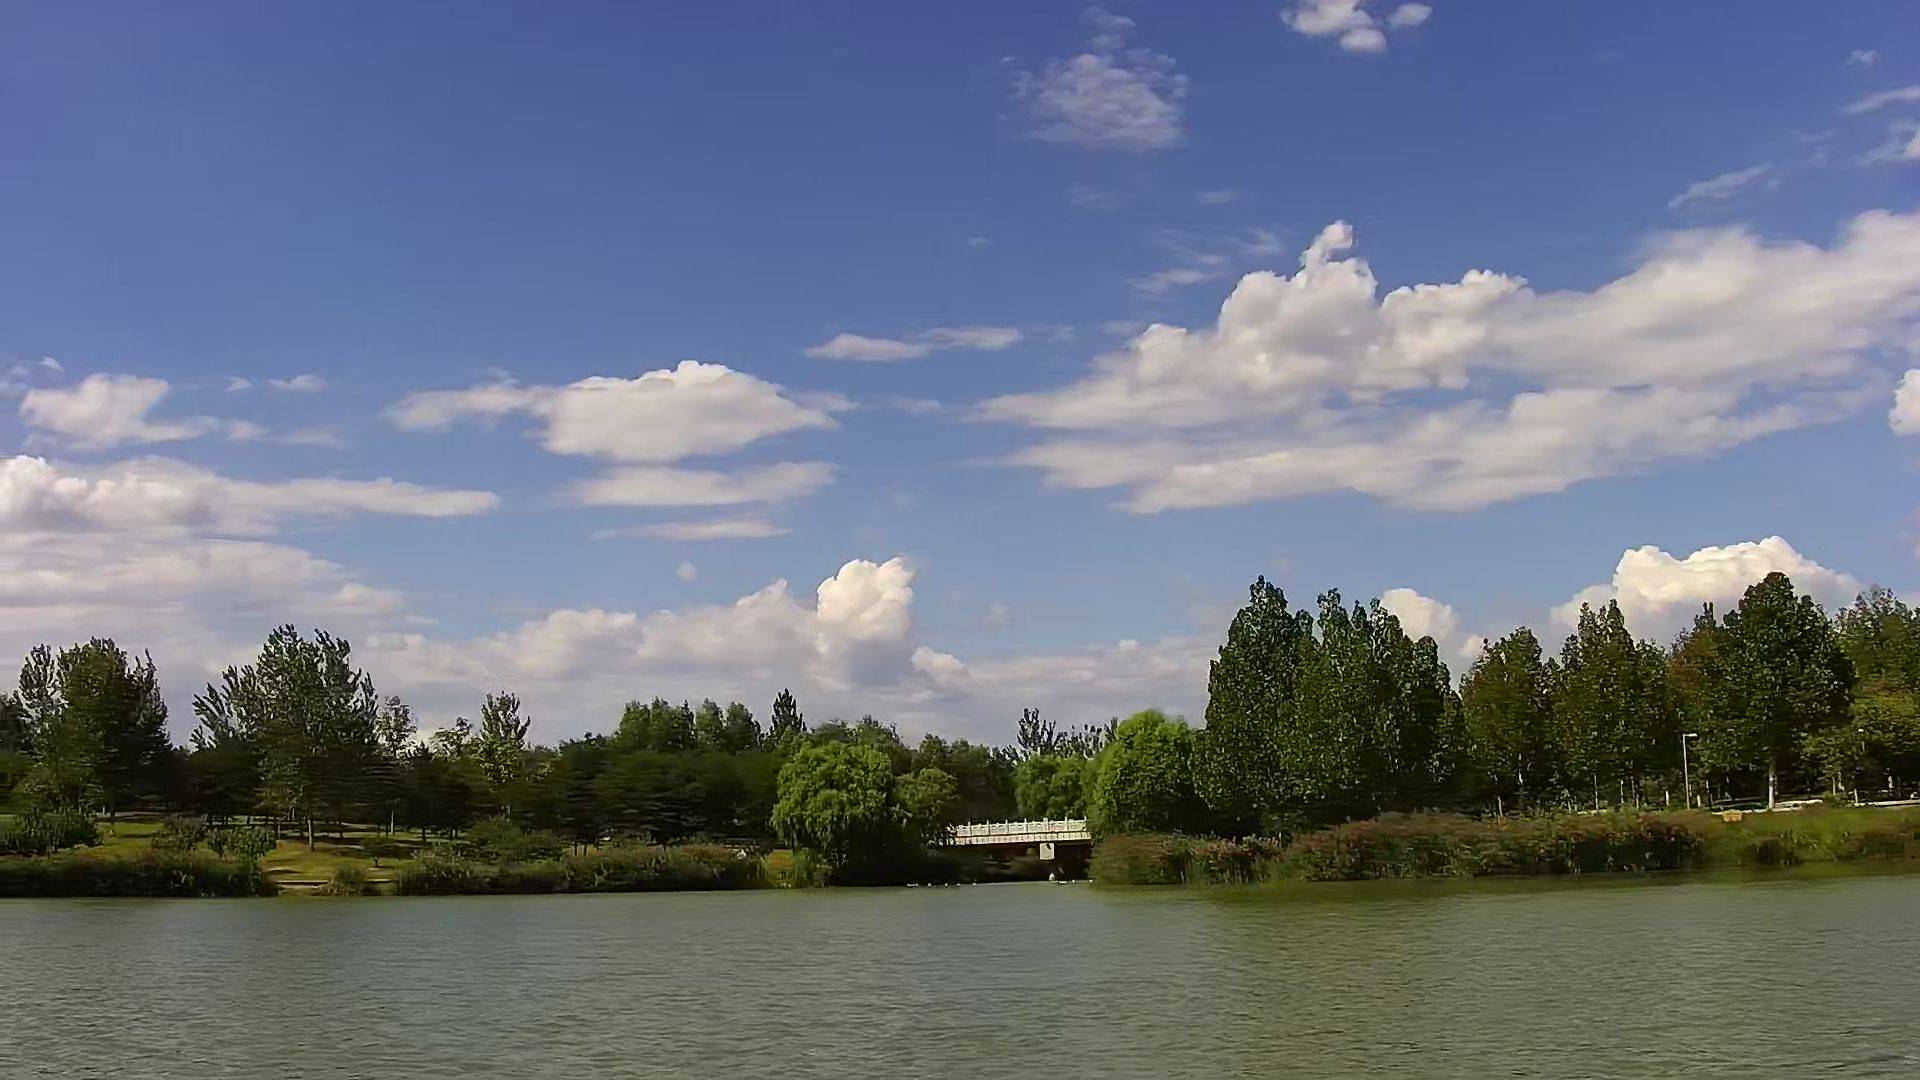bridge: (948, 818, 1089, 884)
